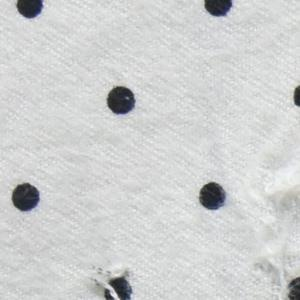Damage: (256, 172, 300, 300), (75, 253, 135, 300)
